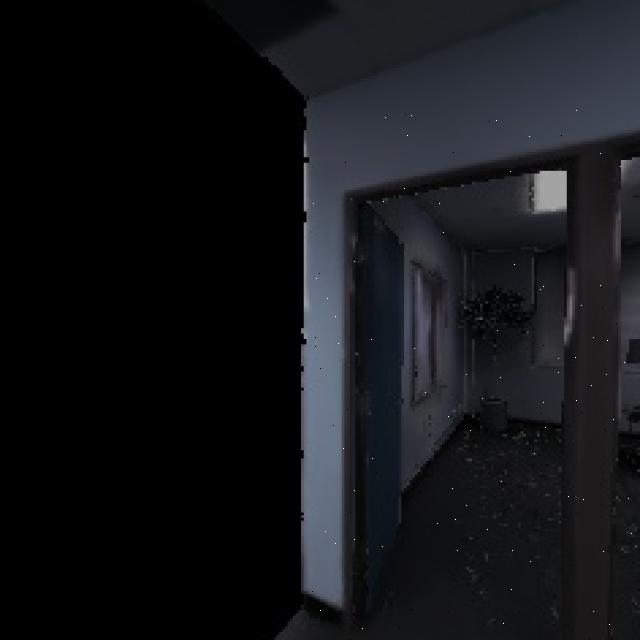door-frame: (312, 106, 640, 640)
